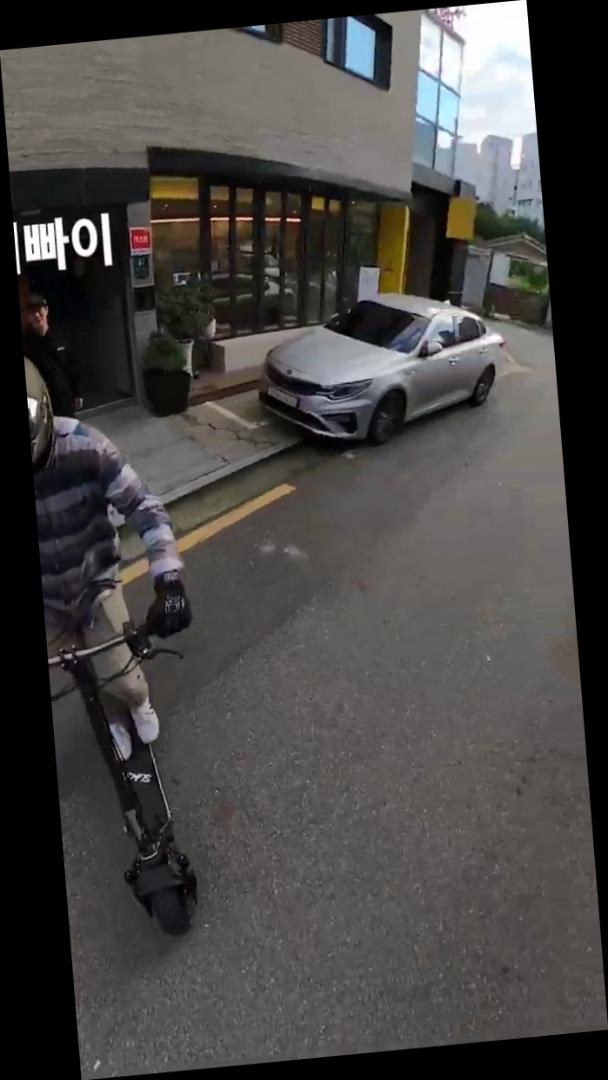helmet: (25, 339, 219, 951)
